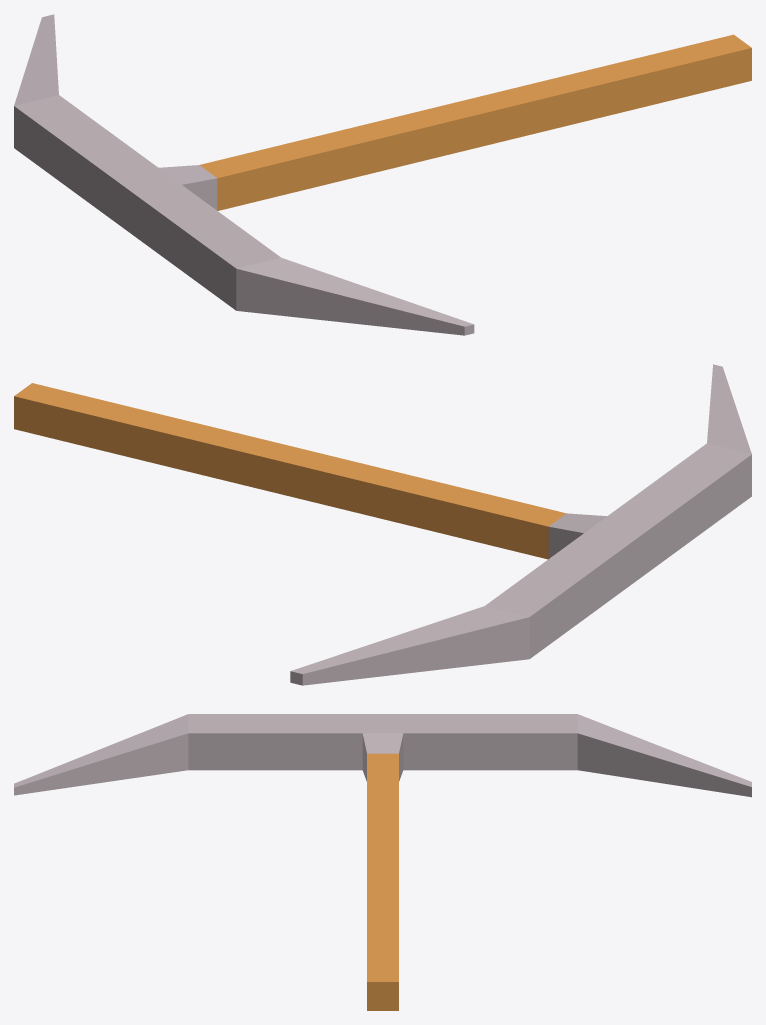
Rendered from steel_pickaxe.glb.
3 views of the same model, one above another, from view 1: azimuth 30°, elevation 25°; view 2: azimuth 150°, elevation 25°; view 3: azimuth 270°, elevation 25° (orthographic). The views are drawn at different scales.
Visible parts, largest first — view 1: Cube; view 2: Cube; view 3: Cube.
Boxes of the visible parts, x1,y1,x2,y2 form: Cube: (14, 14, 751, 335); Cube: (14, 364, 751, 685); Cube: (14, 714, 751, 1010).
Size of the model in its own units: 16.03 by 1.05 by 18.94.
